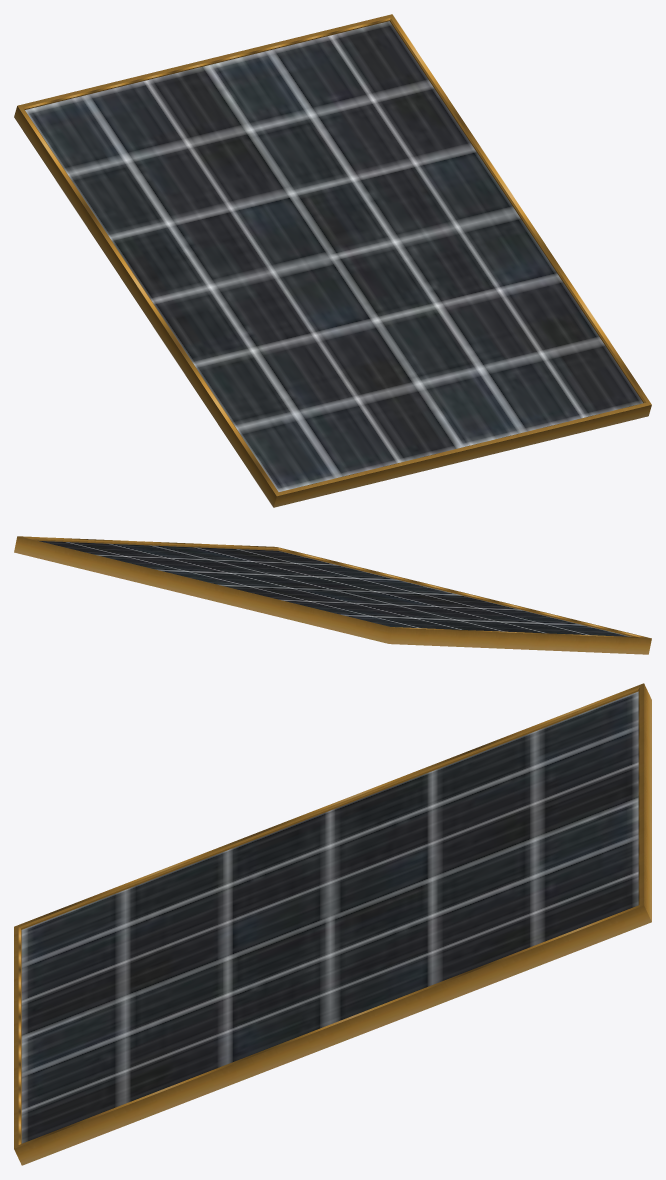
The picture shows the model from 3 angles, top to bottom: view 1: azimuth 30°, elevation 25°; view 2: azimuth 150°, elevation 25°; view 3: azimuth 270°, elevation 25°; orthographic projection. The views are drawn at different scales.
Parts seen in each view (by area): view 1: Panel_Structure, Frame_Structure (×2); view 2: Panel_Structure, Frame_Structure (×2); view 3: Panel_Structure, Frame_Structure (×2).
Boxes of the visible parts, box(x1,y1,x2,y2) form: Panel_Structure: box(25, 21, 643, 491); Frame_Structure (×2): box(14, 14, 651, 507); Panel_Structure: box(38, 540, 630, 636); Frame_Structure (×2): box(14, 536, 651, 654); Panel_Structure: box(21, 691, 638, 1143); Frame_Structure (×2): box(14, 683, 651, 1165).
Bounding box in the file's own units: 39 × 47.32 × 21.31.
Materials: 3 (2 with a texture image).
